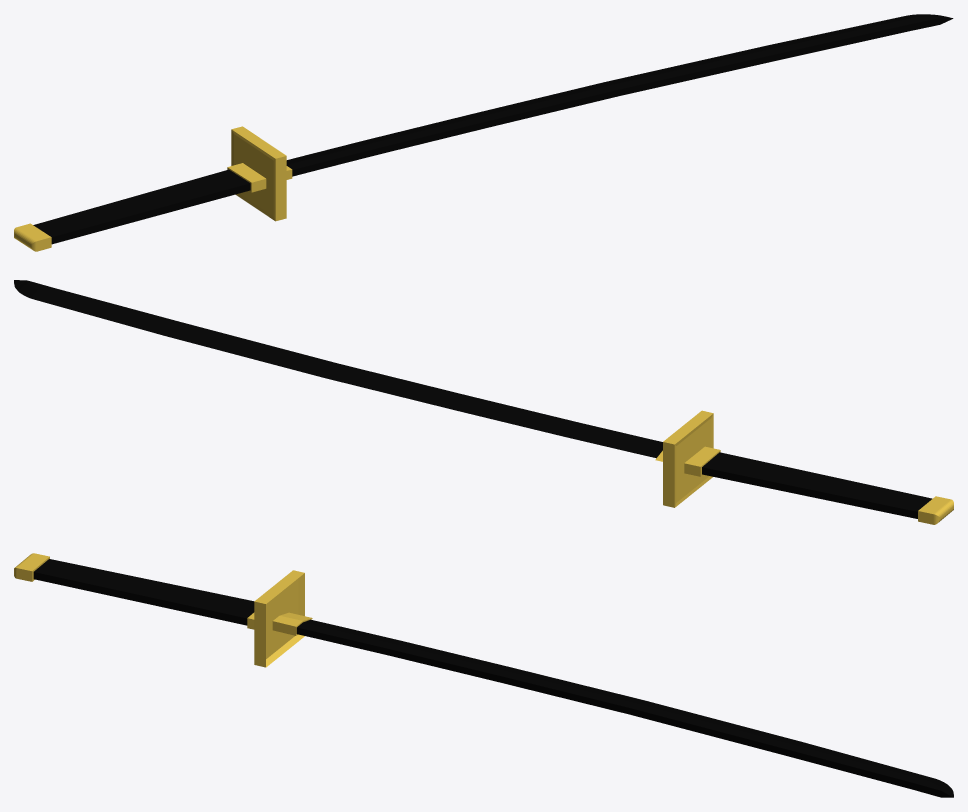
Rendered from Black-Gold-Katana.fbx.
3 renders of one model, top to bottom at view 1: azimuth 30°, elevation 25°; view 2: azimuth 150°, elevation 25°; view 3: azimuth 330°, elevation 25°, orthographic.
Visible parts, largest first — view 1: Cube; view 2: Cube; view 3: Cube.
Boxes of the visible parts, <box> form: Cube: <box>14,14,953,251</box>; Cube: <box>14,280,953,524</box>; Cube: <box>14,553,953,797</box>.
Bounding box in the file's own units: 139 × 8.94 × 10.73.
